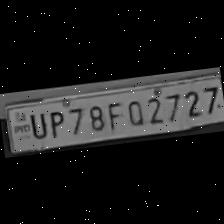2: (178, 86, 202, 118), (142, 92, 164, 126)
7: (159, 89, 182, 123), (63, 103, 86, 136), (198, 81, 220, 115)
8: (84, 100, 107, 134)
F: (103, 98, 125, 130)
P: (43, 106, 67, 138)
Q: (121, 96, 145, 128)
U: (25, 109, 48, 140)
